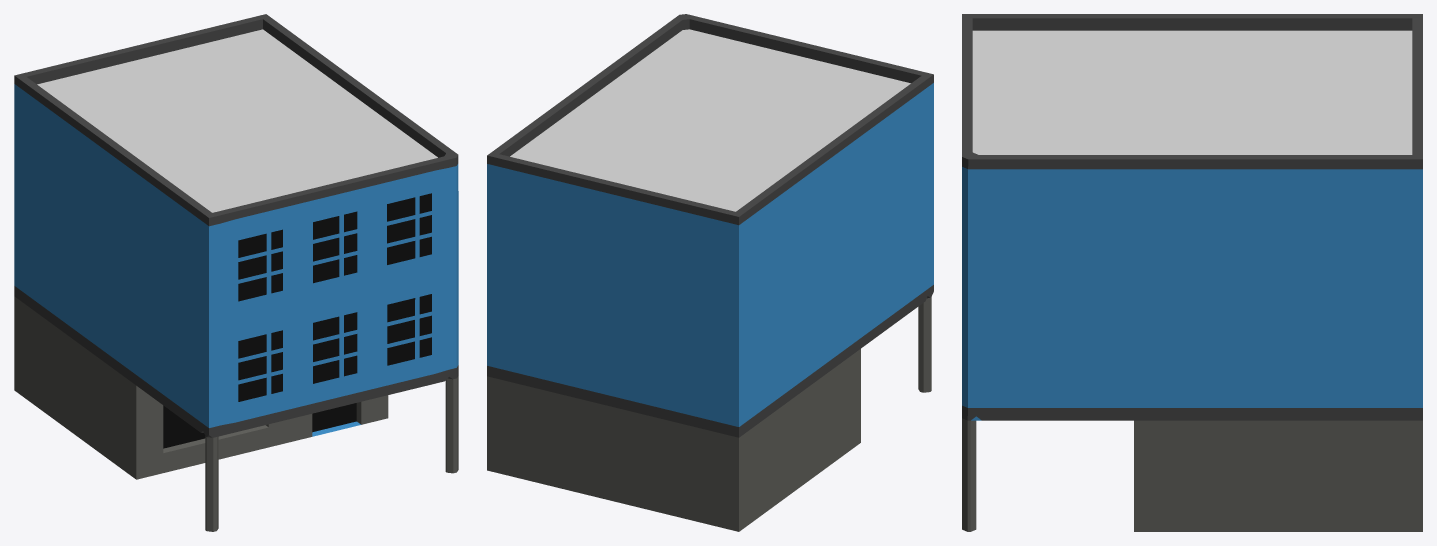
Rendered from house-3.glb.
The picture shows the model from 3 angles, left to right: view 1: azimuth 30°, elevation 25°; view 2: azimuth 150°, elevation 25°; view 3: azimuth 270°, elevation 25°; orthographic projection. The views are drawn at different scales.
Size of the model in its own units: 1.46 by 1.74 by 1.95.
